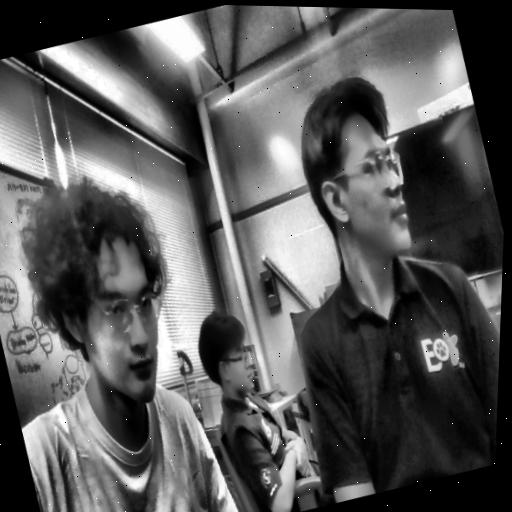Daifuku: (0, 149, 204, 429)
Not Daifuku: (275, 62, 431, 274), (187, 297, 272, 414)
